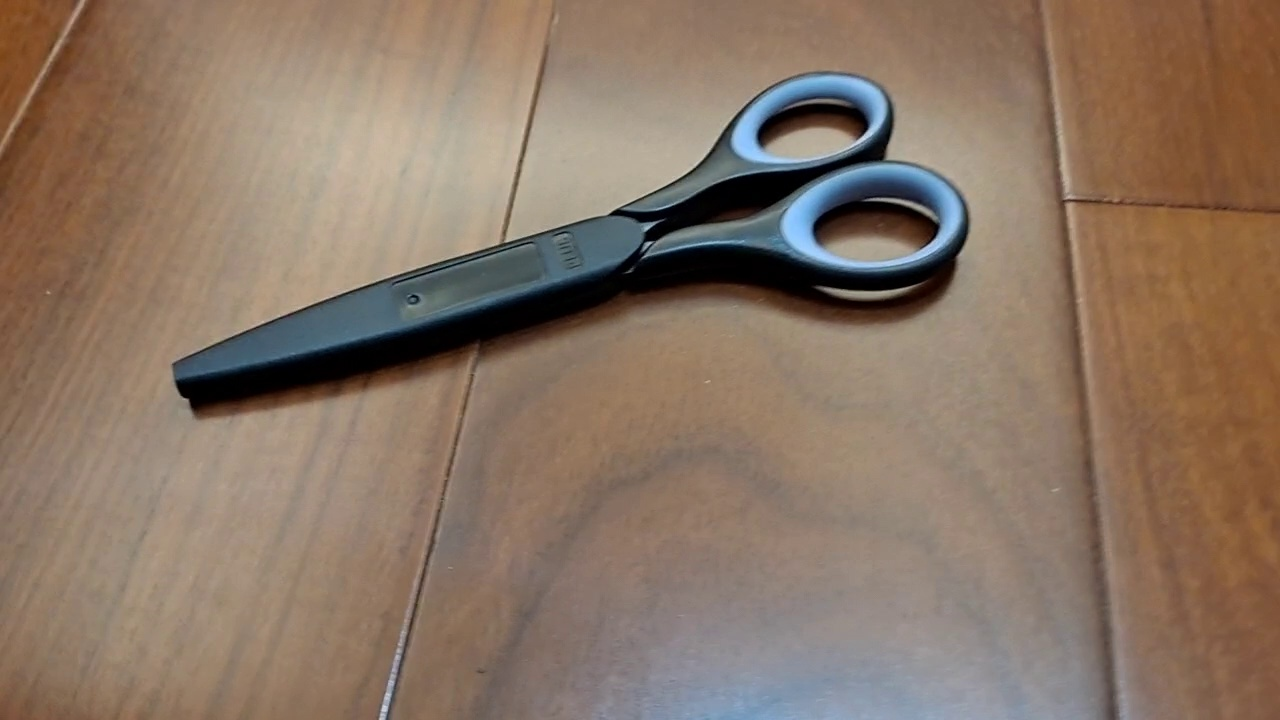scissors: (169, 67, 972, 413)
